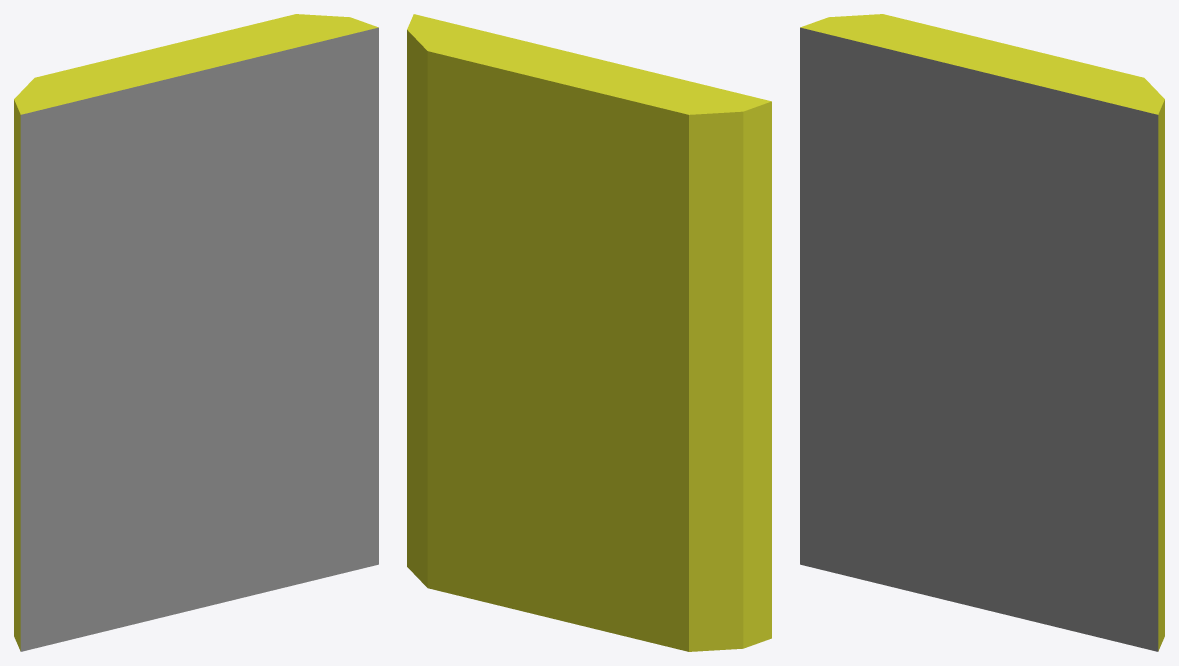
File: k_and_c_machine_table.obj
3 views of the same model, side by side, from view 1: azimuth 30°, elevation 25°; view 2: azimuth 150°, elevation 25°; view 3: azimuth 330°, elevation 25° (orthographic).
Parts seen in each view (by area): view 1: (null); view 2: (null); view 3: (null).
Boxes of the visible parts, x1=… form: (null): x1=14, y1=14, x2=378, y2=651; (null): x1=407, y1=14, x2=771, y2=651; (null): x1=800, y1=14, x2=1164, y2=651.
Bounding box in the file's own units: 1.57 × 2.25 × 0.2625.
